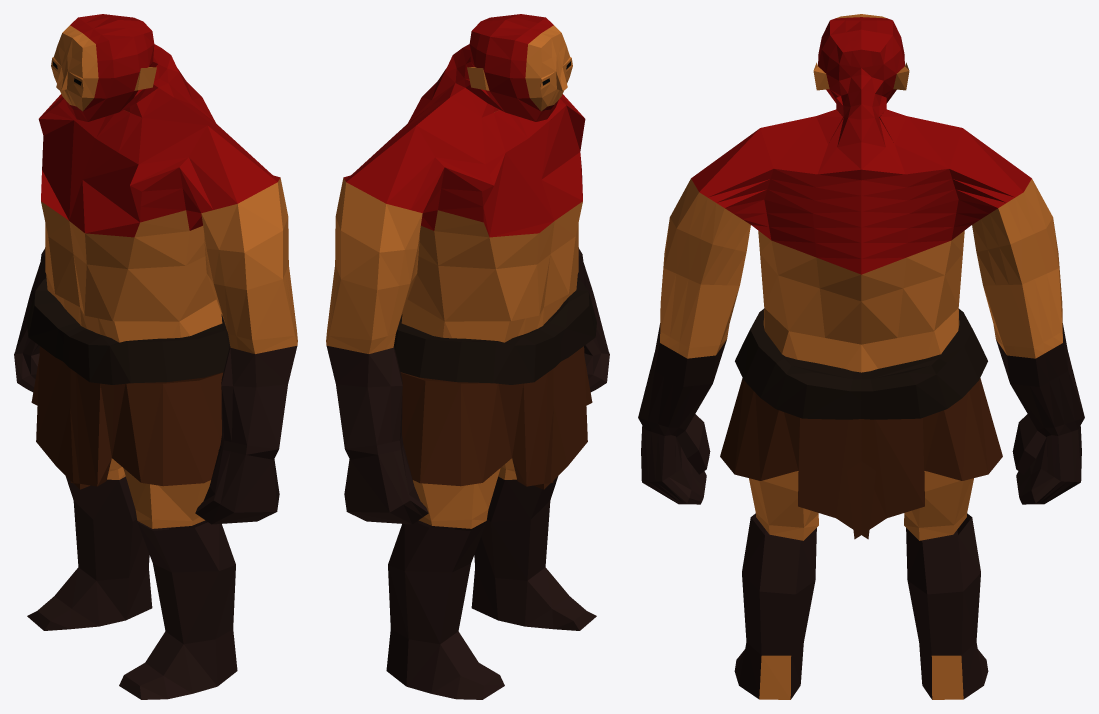
Rendered from Giant.obj.
3 views of the same model, side by side, from view 1: azimuth 30°, elevation 25°; view 2: azimuth 150°, elevation 25°; view 3: azimuth 270°, elevation 25° (orthographic).
Parts seen in each view (by area): view 1: Cube, Cylinder; view 2: Cube, Cylinder; view 3: Cube, Cylinder.
Boxes of the visible parts, <box> form: Cube: <box>14,14,297,699</box>; Cylinder: <box>27,278,229,489</box>; Cube: <box>326,14,609,699</box>; Cylinder: <box>394,278,596,489</box>; Cube: <box>638,14,1084,699</box>; Cylinder: <box>720,308,1002,539</box>.
Bounding box in the file's own units: 1.07 × 3.89 × 2.47.
